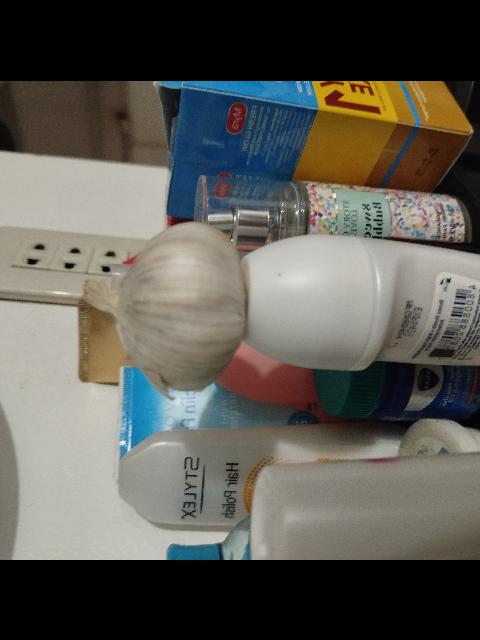garlic: (66, 197, 264, 413)
